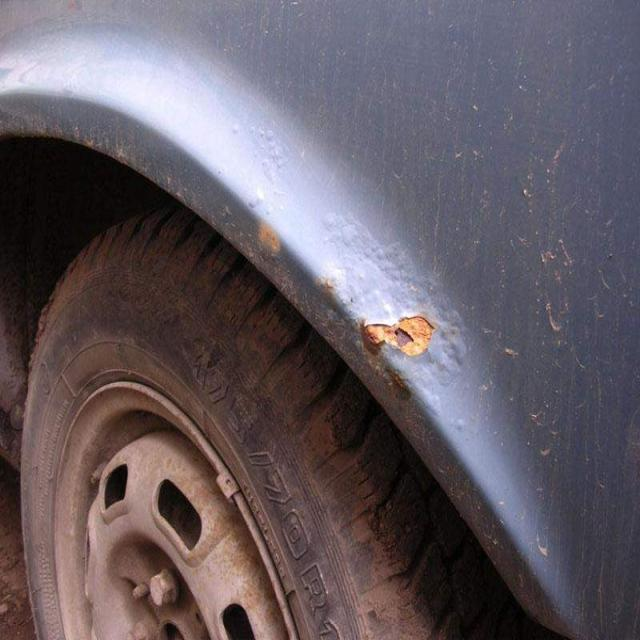Uniform Corrosion: (363, 315, 435, 355)
